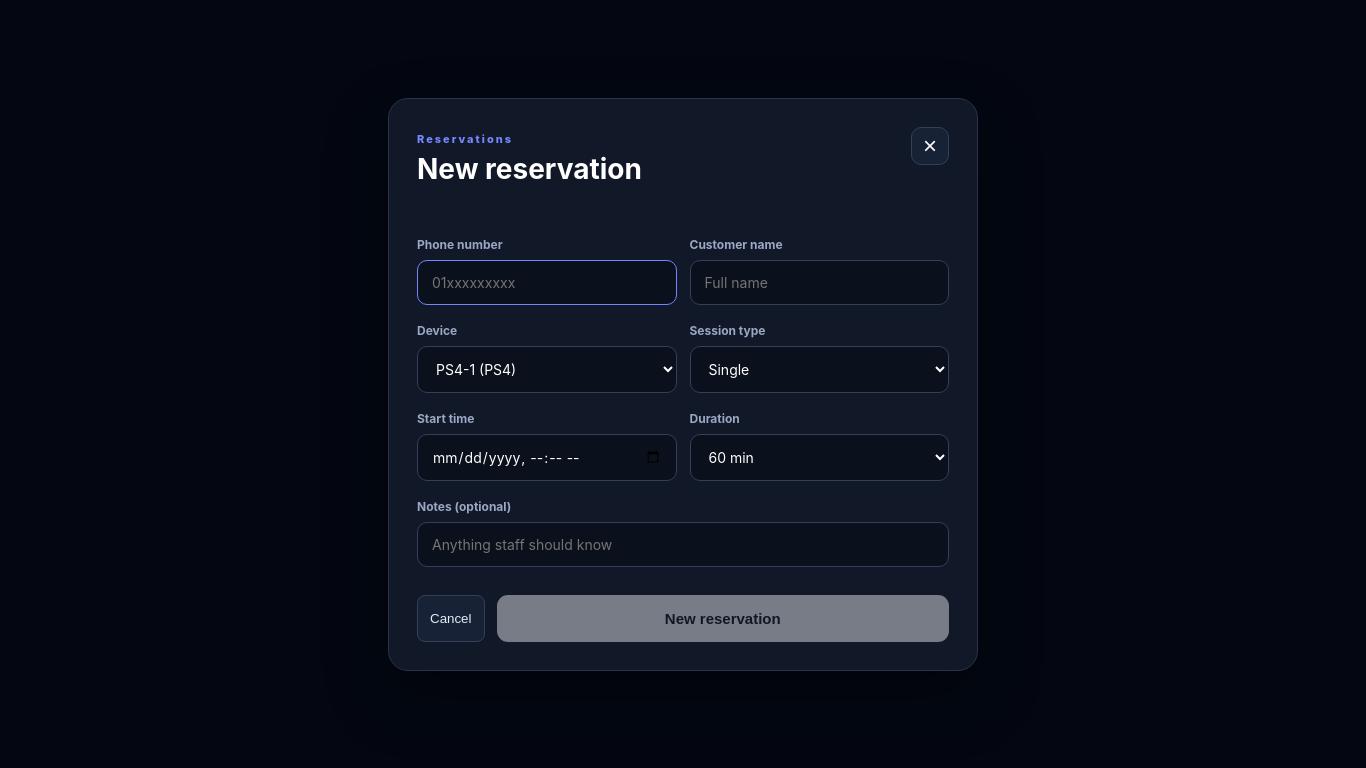
ReservationFormModal › disables save until phone, name, and a start time are entered
Check: the button "New reservation" is disabled, box [496,594,949,642]
Step 1. Type "01000000001" into the field labelled "Phone number" → (547, 282), box [417,260,676,304]
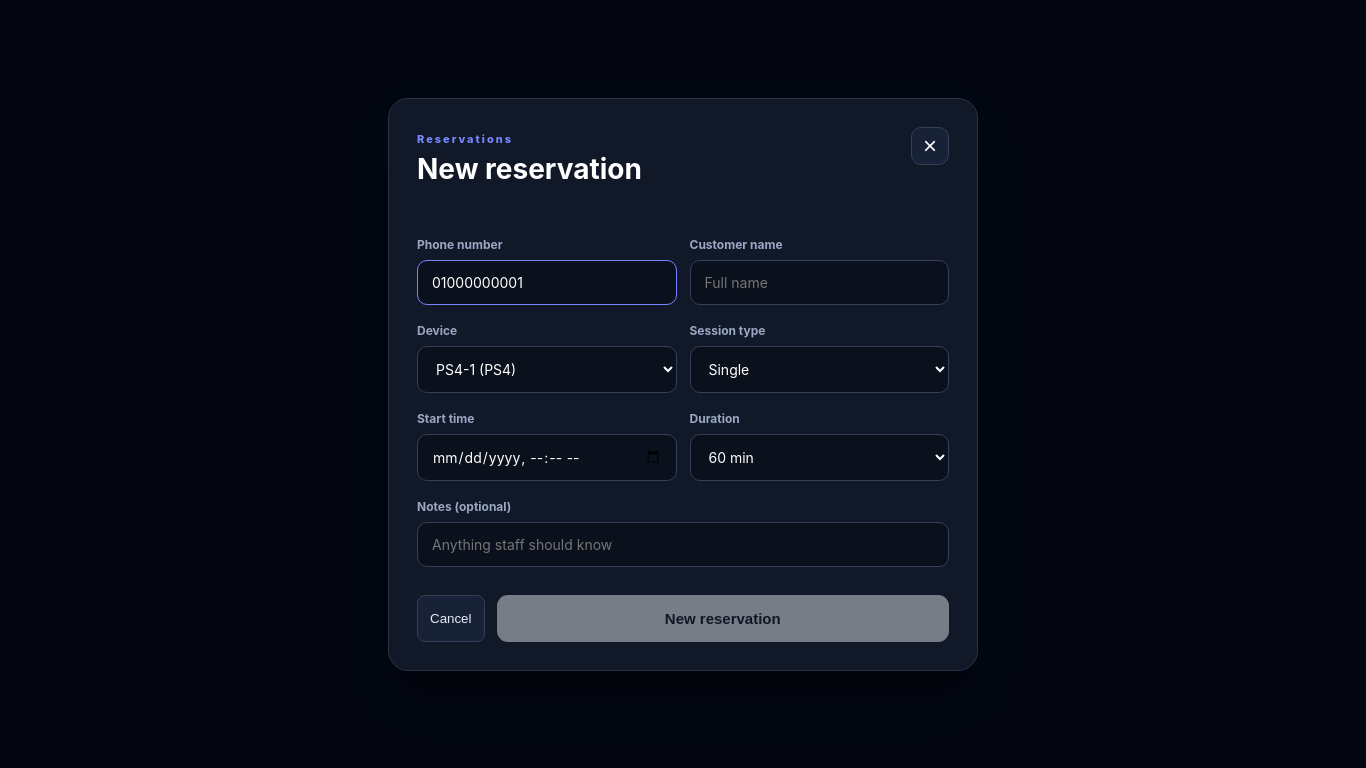
Step 2. Type "Ahmed" into the field labelled "Customer name" → (819, 282), box [690,260,949,304]
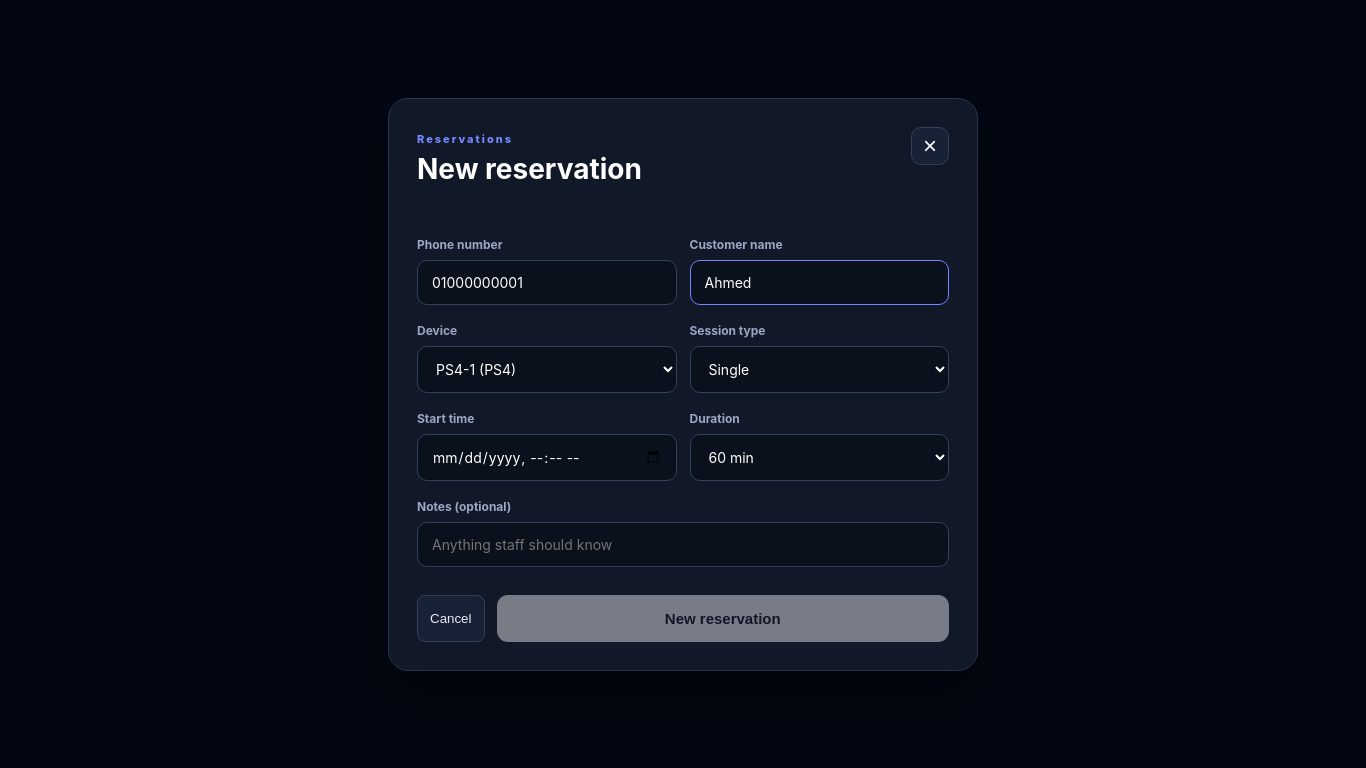
Check: the button "New reservation" is disabled, box [496,594,949,642]
Step 3. Type "2027-01-01T18:00" into the field labelled "Start time" → (547, 457), box [417,434,676,480]
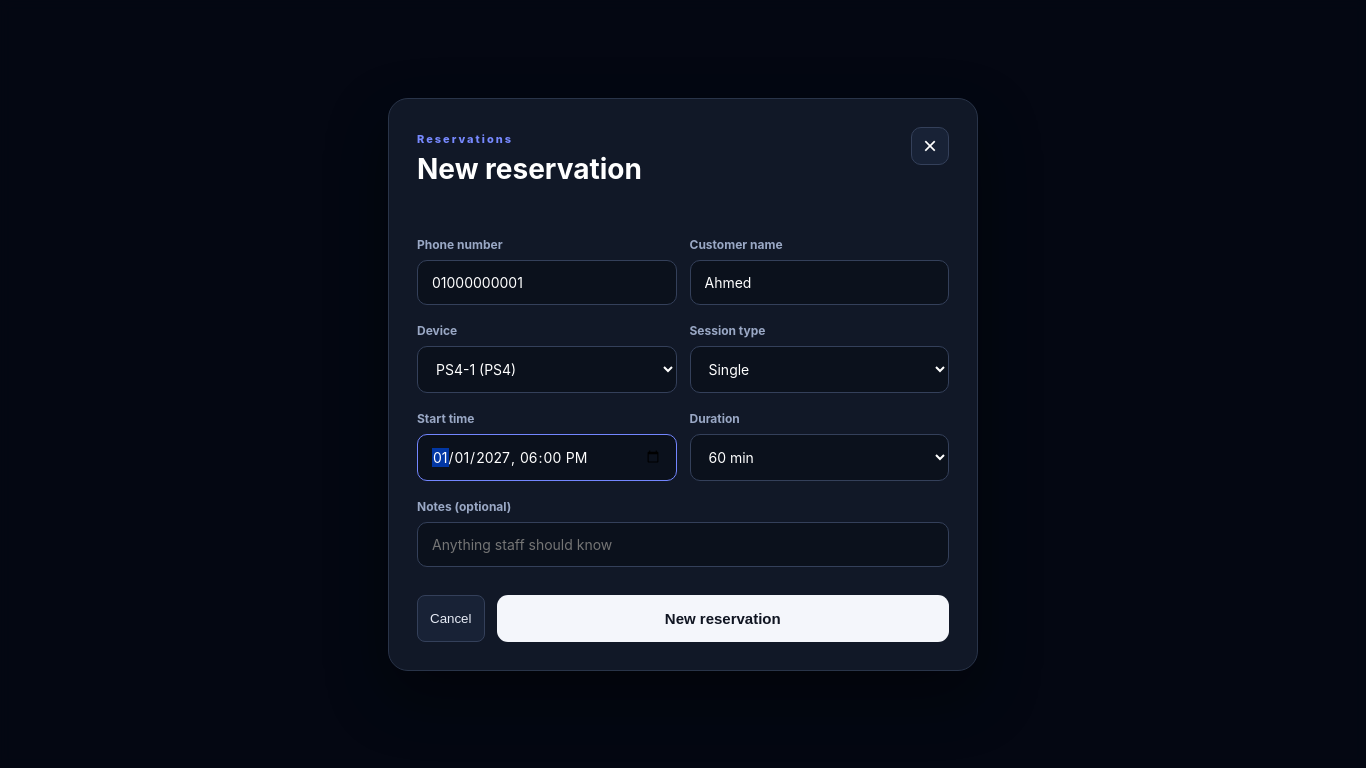
Check: the button "New reservation" is enabled, box [496,594,949,642]
